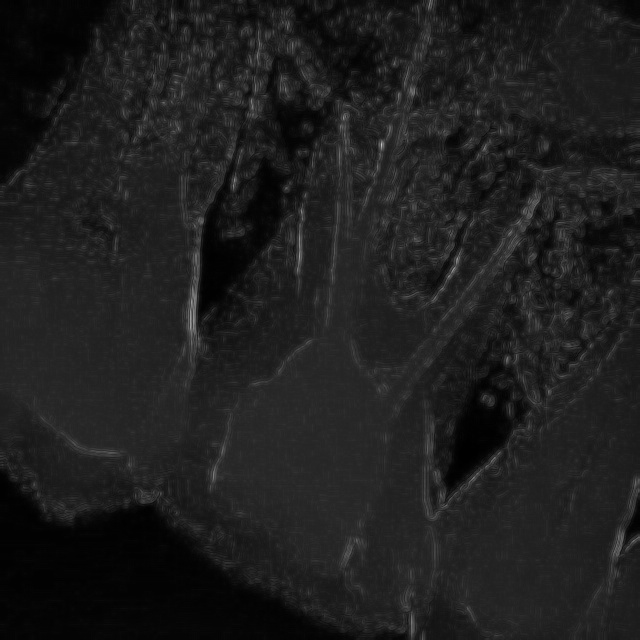Class 0- No endodontic treatment: (169, 5, 573, 628)
